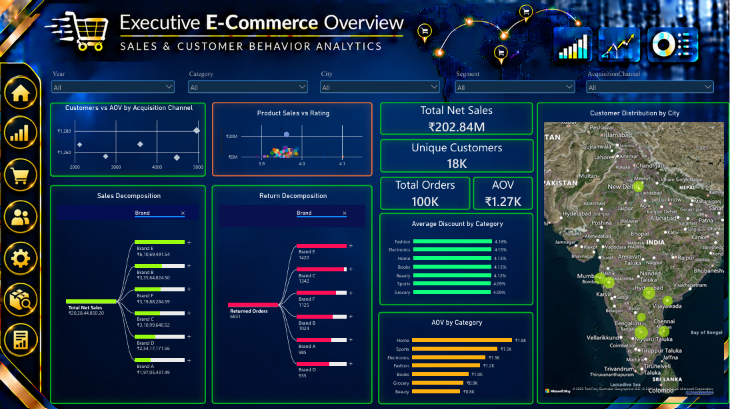

The dashboard page shown, as its layout file describes it:
{"tool":"powerbi","page":{"name":"Executive Decision View - 6","canvas":[1920,1080],"ordinal":5},"visuals":[{"type":"slicer","title":"123","fields":{"Values":["Dim_Customer.City"]},"box":[835,182.5,325,60],"z":0},{"type":"slicer","title":"123","fields":{"Values":["Dim_Customer.Segment"]},"box":[1190,182.5,325,60],"z":1000},{"type":"slicer","title":"123","fields":{"Values":["Dim_Date.Year"]},"box":[129.3,182.7,334,60],"z":2000},{"type":"slicer","title":"123","fields":{"Values":["Dim_Product.Category"]},"box":[487.5,182.5,325,60],"z":3000},{"type":"slicer","title":"123","fields":{"Values":["Dim_Customer.AcquisitionChannel"]},"box":[1535,182.5,345,60],"z":4000},{"type":"cardVisual","fields":{"Data":["Measures Table.Total Net Sales"]},"box":[997.5,266.7,402.5,86.7],"z":5000},{"type":"cardVisual","fields":{"Data":["Measures Table.Total Orders"]},"box":[997.5,462.5,237.5,87.5],"z":6000},{"type":"cardVisual","fields":{"Data":["Measures Table.Unique Customers"]},"box":[997.5,364.2,404.2,87.5],"z":7000},{"type":"cardVisual","fields":{"Data":["Measures Table.AOV"]},"box":[1241.7,462.5,158.3,87.5],"z":8000},{"type":"clusteredBarChart","fields":{"Category":["Dim_Product.Category"],"Y":["Measures Table.Average Discount"]},"box":[995.6,557.8,405.6,243.3],"z":9000},{"type":"clusteredBarChart","fields":{"Category":["Dim_Product.Category"],"Y":["Measures Table.AOV"]},"box":[992.5,817.5,408.5,243.1],"z":10000},{"type":"decompositionTreeVisual","title":"Sales Decomposition","fields":{"Analyze":["Measures Table.Total Net Sales"],"ExplainBy":["Dim_Product.Brand","Dim_Product.Category","Dim_Customer.City","Dim_Customer.AcquisitionChannel","Dim_Customer.Segment","Dim_Date.Year","Dim_Customer.Gender"]},"box":[130,485,410,575],"z":11000},{"type":"decompositionTreeVisual","title":"Return Decomposition","fields":{"Analyze":["Measures Table.Returned Orders"],"ExplainBy":["Dim_Product.Brand","Dim_Product.Category","Dim_Customer.City","Dim_Customer.AcquisitionChannel","Dim_Customer.Segment","Dim_Date.Year","Fact_EcommerceSales.PaymentMethod","Fact_EcommerceSales.Rating"]},"box":[555,485,422.5,575],"z":12000},{"type":"map","title":"Customer Distribution by City","fields":{"Category":["Dim_Customer.City"],"Size":["Measures Table.Unique Customers"]},"box":[1410,266.7,510,793.3],"z":13000},{"type":"scatterChart","title":"Customers vs AOV by Acquisition Channel","fields":{"Category":["Dim_Customer.AcquisitionChannel"],"Size":["Measures Table.Total Net Sales"],"X":["Measures Table.Unique Customers"],"Y":["Measures Table.AOV"]},"box":[130,267.5,410,195],"z":14000},{"type":"scatterChart","title":"Product Sales vs Rating","fields":{"Series":["Dim_Product.ProductName"],"Size":["Measures Table.Units Sold"],"X":["Measures Table.Average Rating"],"Y":["Measures Table.Total Net Sales"]},"box":[555.6,267.3,422,194.6],"z":15000},{"type":"image","box":[6,192.7,90.7,99.3],"z":16000},{"type":"image","box":[6,840.7,90.7,99.3],"z":17000},{"type":"image","box":[6,296.7,90.7,99.3],"z":18000},{"type":"image","box":[4.4,735.6,97.5,99.4],"z":19000},{"type":"image","box":[6,408,90.7,99.3],"z":20000},{"type":"image","box":[6,518,90.7,99.3],"z":21000},{"type":"image","box":[6,624,90.7,104.7],"z":22000}]}

Visuals, with their boxes in screenshot pixels (x1, y1, x2, y2), scaled from the page's 1920x1080 canvas onto the 730x409 screenshot:
"123" slicer: {"x1": 317, "y1": 69, "x2": 441, "y2": 92}
"123" slicer: {"x1": 452, "y1": 69, "x2": 576, "y2": 92}
"123" slicer: {"x1": 49, "y1": 69, "x2": 176, "y2": 92}
"123" slicer: {"x1": 185, "y1": 69, "x2": 309, "y2": 92}
"123" slicer: {"x1": 584, "y1": 69, "x2": 715, "y2": 92}
cardVisual - Measures Table.Total Net Sales: {"x1": 379, "y1": 101, "x2": 532, "y2": 134}
cardVisual - Measures Table.Total Orders: {"x1": 379, "y1": 175, "x2": 470, "y2": 208}
cardVisual - Measures Table.Unique Customers: {"x1": 379, "y1": 138, "x2": 533, "y2": 171}
cardVisual - Measures Table.AOV: {"x1": 472, "y1": 175, "x2": 532, "y2": 208}
clusteredBarChart - Dim_Product.Category x Measures Table.Average Discount: {"x1": 379, "y1": 211, "x2": 533, "y2": 303}
clusteredBarChart - Dim_Product.Category x Measures Table.AOV: {"x1": 377, "y1": 310, "x2": 533, "y2": 402}
"Sales Decomposition" decompositionTreeVisual: {"x1": 49, "y1": 184, "x2": 205, "y2": 401}
"Return Decomposition" decompositionTreeVisual: {"x1": 211, "y1": 184, "x2": 372, "y2": 401}
"Customer Distribution by City" map: {"x1": 536, "y1": 101, "x2": 729, "y2": 401}
"Customers vs AOV by Acquisition Channel" scatterChart: {"x1": 49, "y1": 101, "x2": 205, "y2": 175}
"Product Sales vs Rating" scatterChart: {"x1": 211, "y1": 101, "x2": 372, "y2": 175}
image: {"x1": 2, "y1": 73, "x2": 37, "y2": 111}
image: {"x1": 2, "y1": 318, "x2": 37, "y2": 356}
image: {"x1": 2, "y1": 112, "x2": 37, "y2": 150}
image: {"x1": 2, "y1": 279, "x2": 39, "y2": 316}
image: {"x1": 2, "y1": 155, "x2": 37, "y2": 192}
image: {"x1": 2, "y1": 196, "x2": 37, "y2": 234}
image: {"x1": 2, "y1": 236, "x2": 37, "y2": 276}
